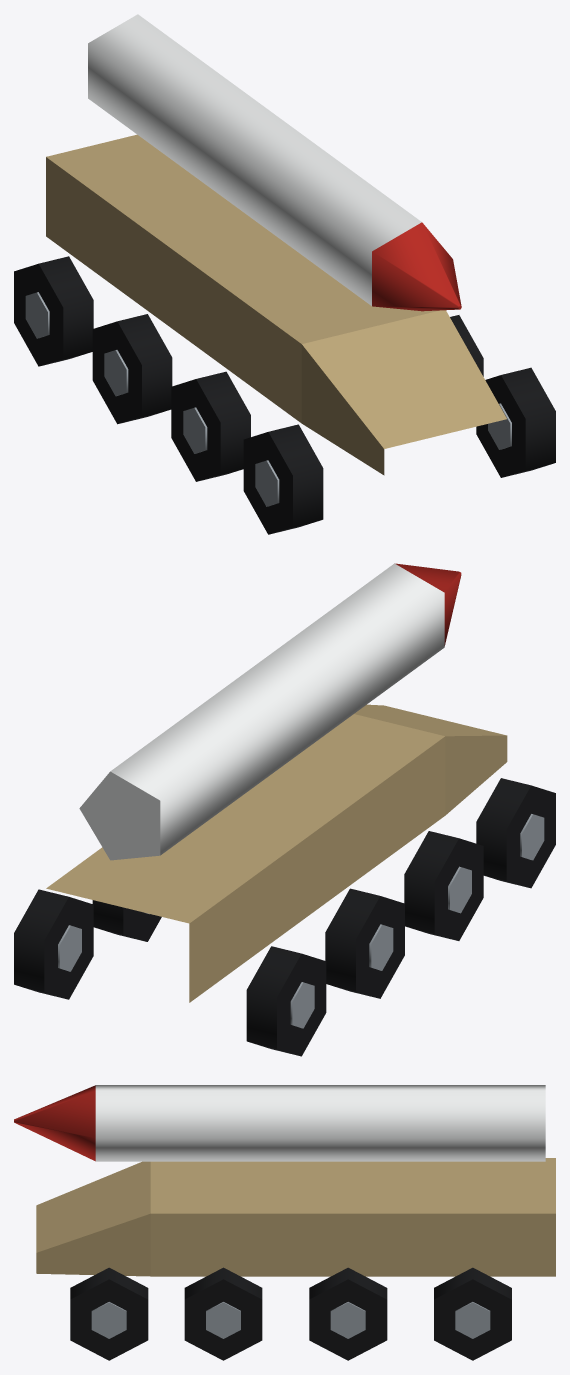
File: veh_ground_missile_carrier_a07_lod1.glb
3 views of the same model, one above another, from view 1: azimuth 30°, elevation 25°; view 2: azimuth 150°, elevation 25°; view 3: azimuth 270°, elevation 25° (orthographic). The views are drawn at different scales.
Parts seen in each view (by area): view 1: body, launcher, wheel_6, wheel_2, wheel_0, wheel_4, wheel_7; view 2: body, launcher, wheel_0, wheel_1, wheel_2, wheel_4, wheel_6, wheel_3; view 3: body, launcher, wheel_5, wheel_3, wheel_7, wheel_1.
Part boxes in pixels (x1=…): body: x1=46, y1=134, x2=506, y2=475; launcher: x1=88, y1=14, x2=461, y2=311; wheel_6: x1=243, y1=424, x2=323, y2=534; wheel_2: x1=92, y1=314, x2=172, y2=424; wheel_0: x1=14, y1=256, x2=93, y2=366; wheel_4: x1=171, y1=371, x2=250, y2=481; wheel_7: x1=476, y1=367, x2=555, y2=477; body: x1=46, y1=704, x2=507, y2=1002; launcher: x1=79, y1=563, x2=461, y2=860; wheel_0: x1=246, y1=946, x2=326, y2=1056; wheel_1: x1=14, y1=889, x2=93, y2=999; wheel_2: x1=325, y1=888, x2=404, y2=998; wheel_4: x1=404, y1=831, x2=483, y2=940; wheel_6: x1=476, y1=778, x2=555, y2=888; wheel_3: x1=92, y1=900, x2=161, y2=941; body: x1=36, y1=1158, x2=555, y2=1276; launcher: x1=14, y1=1085, x2=545, y2=1161; wheel_5: x1=184, y1=1267, x2=262, y2=1360; wheel_3: x1=309, y1=1267, x2=387, y2=1360; wheel_7: x1=70, y1=1267, x2=148, y2=1360; wheel_1: x1=434, y1=1267, x2=511, y2=1360.
Size of the model in its own units: 2.98 by 3.03 by 6.62.
